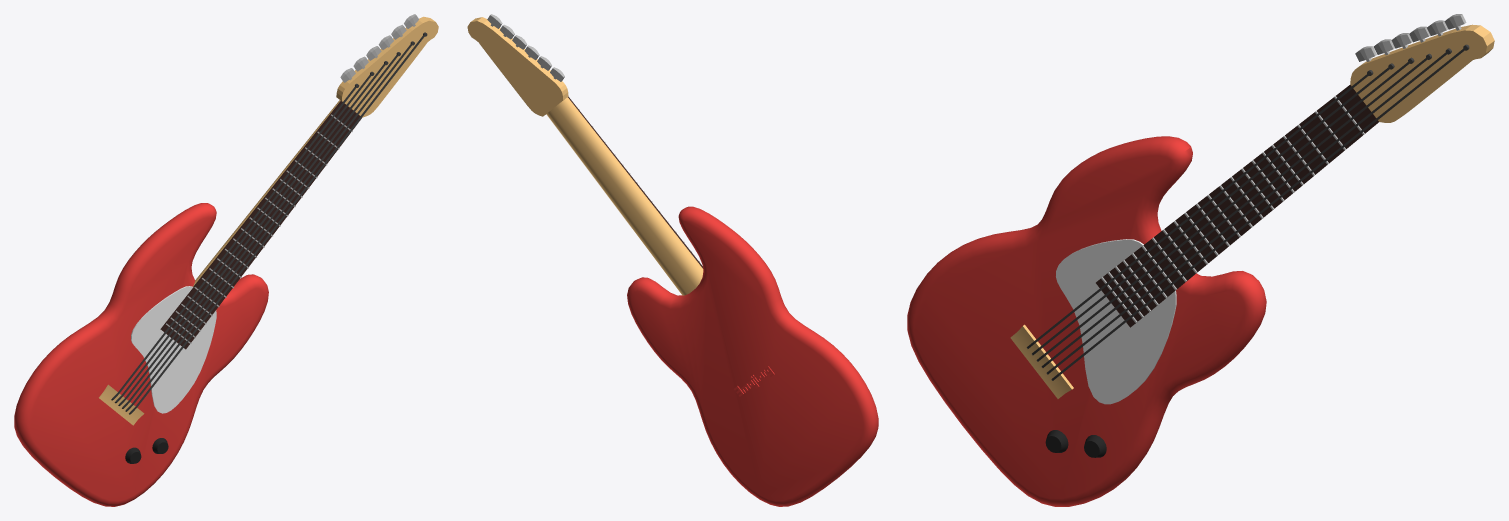
The model's file is guitar.glb.
3 views of the same model, side by side, from view 1: azimuth 30°, elevation 25°; view 2: azimuth 150°, elevation 25°; view 3: azimuth 330°, elevation 25° (orthographic). The views are drawn at different scales.
Visible parts, largest first — view 1: Cube.913; view 2: Cube.913; view 3: Cube.913.
Part boxes in pixels (x1,y1,x2,y2): Cube.913: [14, 14, 438, 506]; Cube.913: [467, 14, 878, 506]; Cube.913: [907, 14, 1494, 506].
Size of the model in its own units: 2.39 by 2.31 by 0.1473.
1 material, 1 textured.
